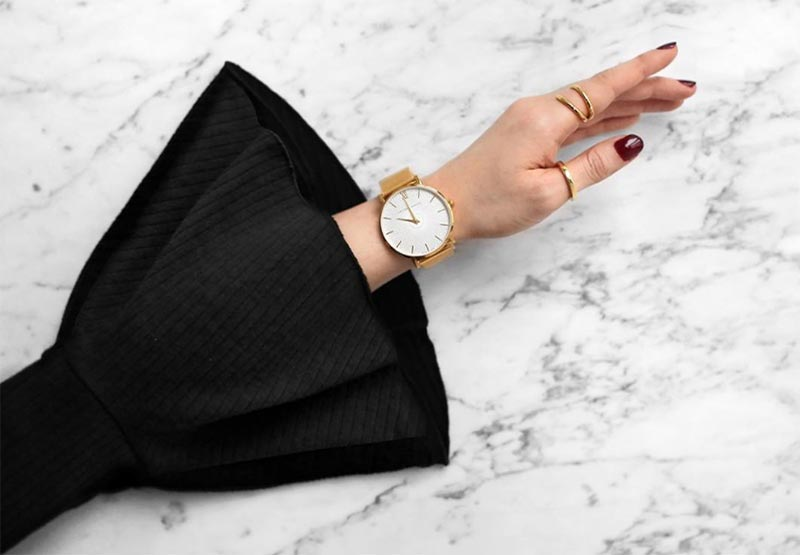finger: (535, 35, 681, 144), (557, 106, 637, 151), (607, 79, 703, 103), (555, 97, 686, 113)
